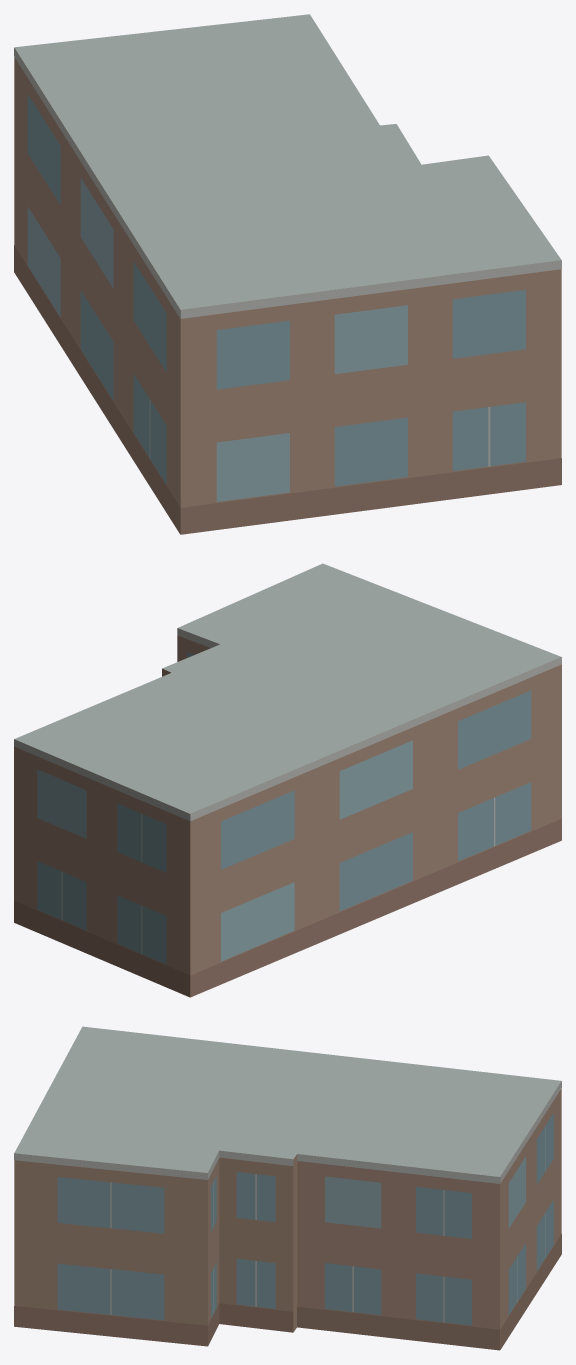
Rendered from survey-upis-32790995.glb.
The picture shows the model from 3 angles, top to bottom: view 1: azimuth 30°, elevation 25°; view 2: azimuth 150°, elevation 25°; view 3: azimuth 270°, elevation 25°; orthographic projection. The views are drawn at different scales.
Parts seen in each view (by area): view 1: survey-upis-32790995.tmp; view 2: survey-upis-32790995.tmp; view 3: survey-upis-32790995.tmp.
Part boxes in pixels (x1,y1,x2,y2): survey-upis-32790995.tmp: (14,14,561,534); survey-upis-32790995.tmp: (14,563,561,997); survey-upis-32790995.tmp: (14,1026,561,1350).
Bounding box in the file's own units: 11.38 × 6.1 × 17.48.
